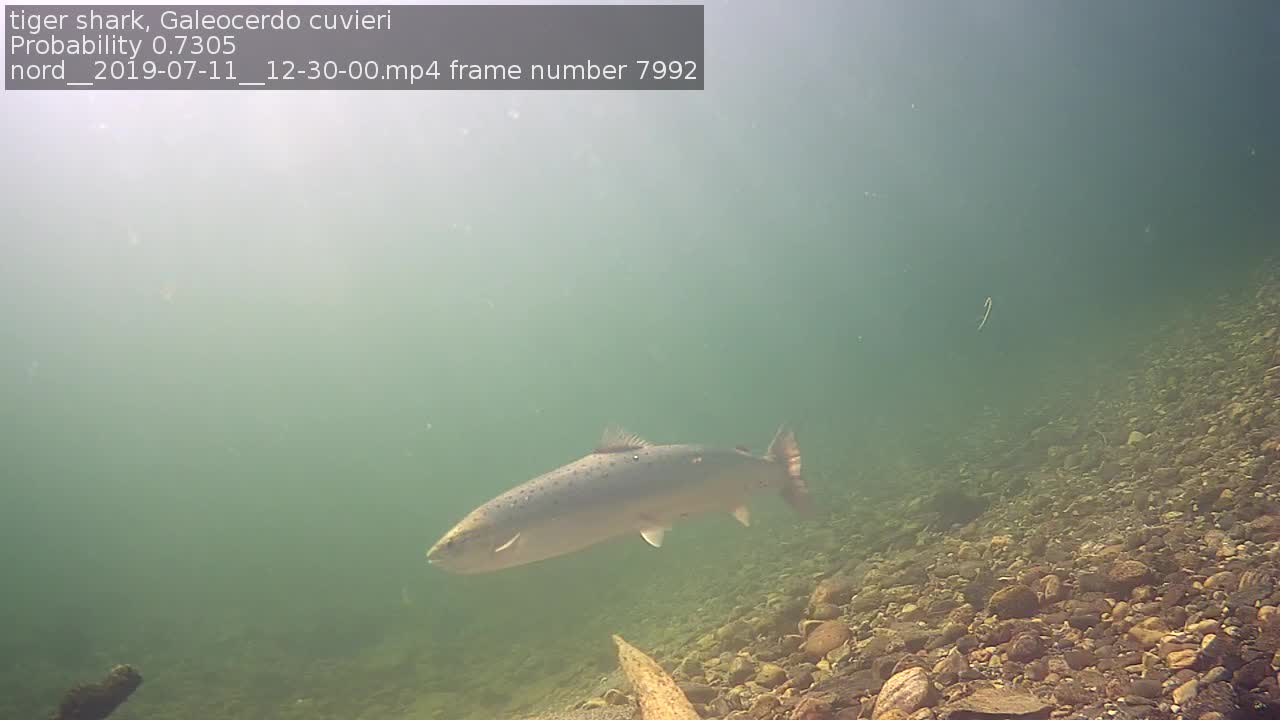salmon: (425, 418, 813, 574)
